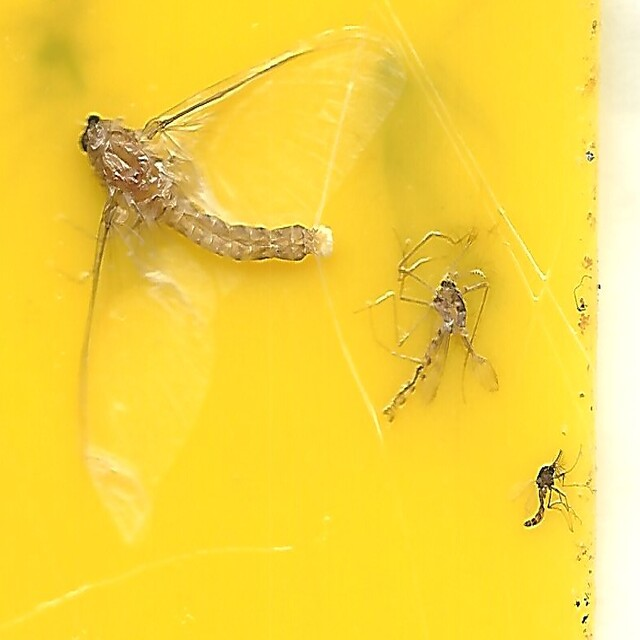Ephemeroptera: (81, 113, 319, 268)
Nematocera: (384, 275, 468, 414), (521, 455, 559, 527)
